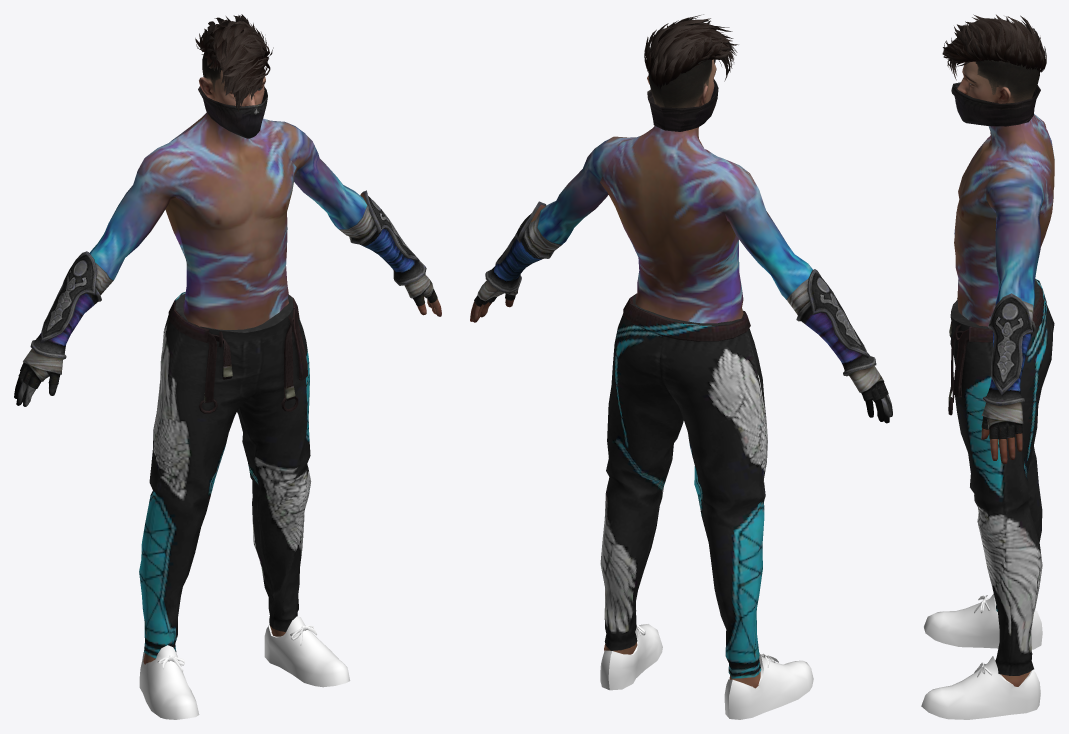
Rendered from freefire_new_male_3d_model_by_djajang_studio.glb.
3 views of the same model, side by side, from view 1: azimuth 30°, elevation 25°; view 2: azimuth 150°, elevation 25°; view 3: azimuth 270°, elevation 25° (orthographic).
Parts seen in each view (by area): view 1: Mesh_0045.rip_mat0.016_0, Mesh_0042.rip_mat0.014_0, Mesh_0040.rip_mat0.013_0, Mesh_0044.rip_mat0.015_0, Mesh_0061.rip_mat0.019_0, Mesh_0046.rip_mat0.017_0; view 2: Mesh_0045.rip_mat0.016_0, Mesh_0042.rip_mat0.014_0, Mesh_0040.rip_mat0.013_0, Mesh_0044.rip_mat0.015_0, Mesh_0061.rip_mat0.019_0, Mesh_0046.rip_mat0.017_0; view 3: Mesh_0042.rip_mat0.014_0, Mesh_0045.rip_mat0.016_0, Mesh_0044.rip_mat0.015_0, Mesh_0040.rip_mat0.013_0, Mesh_0061.rip_mat0.019_0, Mesh_0046.rip_mat0.017_0.
Boxes of the visible parts, x1,y1,x2,y2 form: Mesh_0045.rip_mat0.016_0: (139, 291, 311, 658); Mesh_0042.rip_mat0.014_0: (89, 51, 441, 664); Mesh_0040.rip_mat0.013_0: (14, 190, 437, 406); Mesh_0044.rip_mat0.015_0: (139, 616, 350, 719); Mesh_0061.rip_mat0.019_0: (195, 14, 273, 111); Mesh_0046.rip_mat0.017_0: (198, 86, 267, 138); Mesh_0045.rip_mat0.016_0: (600, 293, 767, 678); Mesh_0042.rip_mat0.014_0: (470, 59, 812, 688); Mesh_0040.rip_mat0.013_0: (474, 201, 892, 423); Mesh_0044.rip_mat0.015_0: (600, 624, 813, 719); Mesh_0061.rip_mat0.019_0: (644, 14, 738, 88); Mesh_0046.rip_mat0.017_0: (647, 79, 718, 131); Mesh_0042.rip_mat0.014_0: (954, 58, 1054, 686); Mesh_0045.rip_mat0.016_0: (948, 279, 1054, 675); Mesh_0044.rip_mat0.015_0: (921, 593, 1042, 719); Mesh_0040.rip_mat0.013_0: (981, 293, 1035, 439); Mesh_0061.rip_mat0.019_0: (942, 14, 1046, 80); Mesh_0046.rip_mat0.017_0: (951, 82, 1040, 126).
Size of the model in its own units: 4.05 by 6.13 by 1.12.
7 materials, 6 textured.
